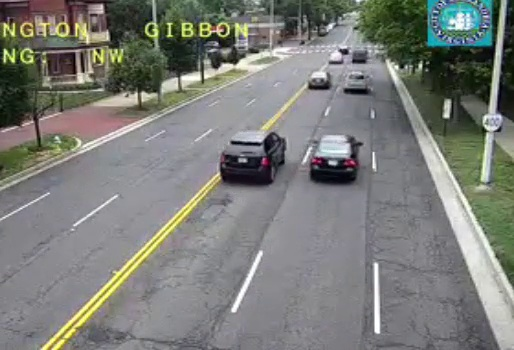car: (218, 130, 286, 182), (310, 134, 359, 179), (344, 72, 367, 91), (308, 71, 328, 89)
